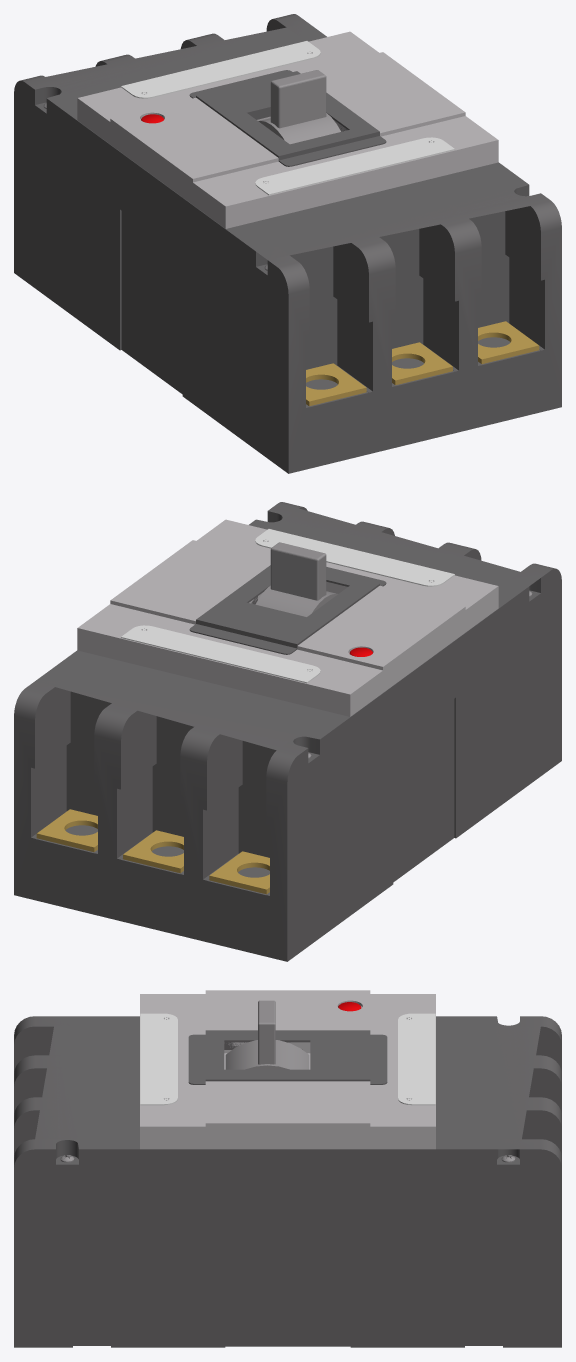
File: MCCB.fbx
3 renders of one model, top to bottom at view 1: azimuth 30°, elevation 25°; view 2: azimuth 150°, elevation 25°; view 3: azimuth 270°, elevation 25°, orthographic.
Parts seen in each view (by area): view 1: Cube.014, Cube.015, Cube.016, Cube.017, Cube.003, Cube.018; view 2: Cube.014, Cube.015, Cube.017, Cube.016, Cube.003, Cube.018; view 3: Cube.014, Cube.015, Cube.017, Cube.016, Cube.018.
Boxes of the visible parts, x1,y1,x2,y2 form: Cube.014: (14, 14, 561, 473); Cube.015: (77, 31, 498, 228); Cube.016: (121, 41, 454, 195); Cube.017: (189, 70, 386, 166); Cube.003: (306, 321, 539, 406); Cube.018: (258, 70, 340, 144); Cube.014: (14, 502, 561, 961); Cube.015: (77, 519, 498, 716); Cube.017: (189, 565, 386, 654); Cube.016: (121, 529, 454, 683); Cube.003: (36, 809, 269, 894); Cube.018: (255, 542, 337, 616); Cube.014: (14, 1016, 561, 1347); Cube.015: (140, 990, 435, 1149); Cube.017: (188, 1030, 387, 1084); Cube.016: (140, 1013, 435, 1105); Cube.018: (225, 1000, 309, 1069).
Bounding box in the file's own units: 170 × 160 × 295.
